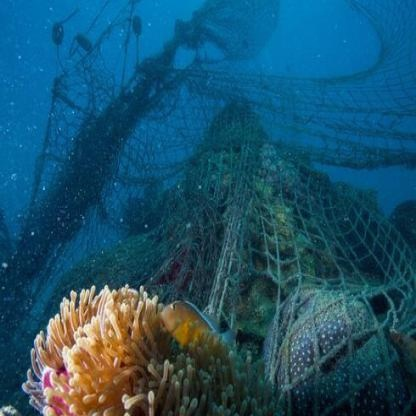net: (56, 55, 416, 326)
